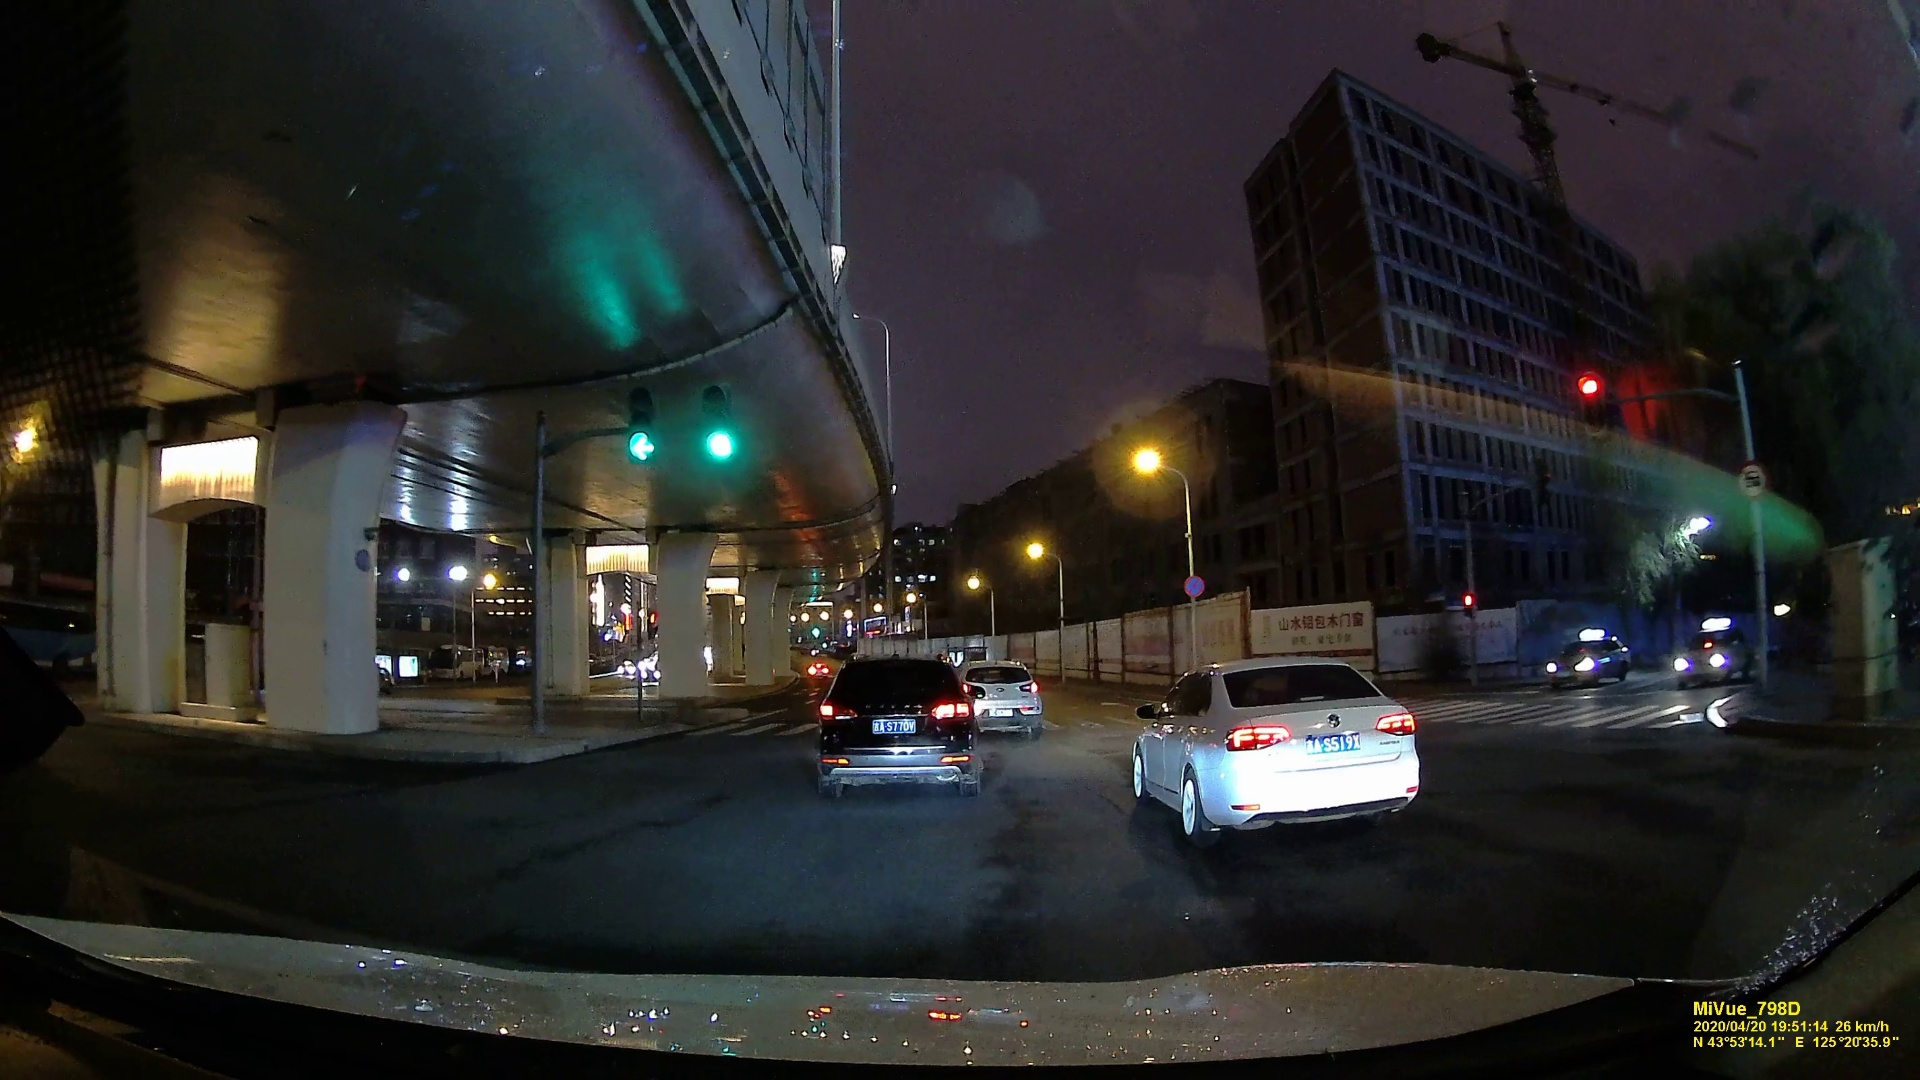minibus: (644, 608, 659, 640)
traffic_sign: (704, 394, 738, 459), (1578, 375, 1611, 434), (625, 401, 658, 460), (1735, 464, 1766, 496), (1182, 575, 1204, 597), (1462, 592, 1476, 615)
vehicle: (1135, 651, 1422, 847), (810, 650, 982, 800), (967, 661, 1044, 738), (1542, 629, 1640, 688), (1677, 630, 1759, 684)
